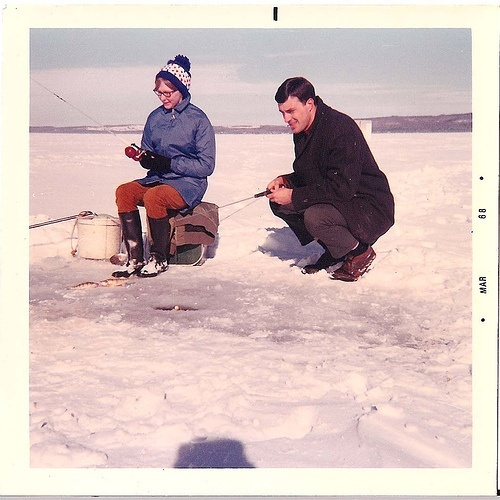head: (274, 92, 317, 134), (153, 76, 185, 110)
person: (263, 76, 395, 276), (113, 54, 214, 274)
